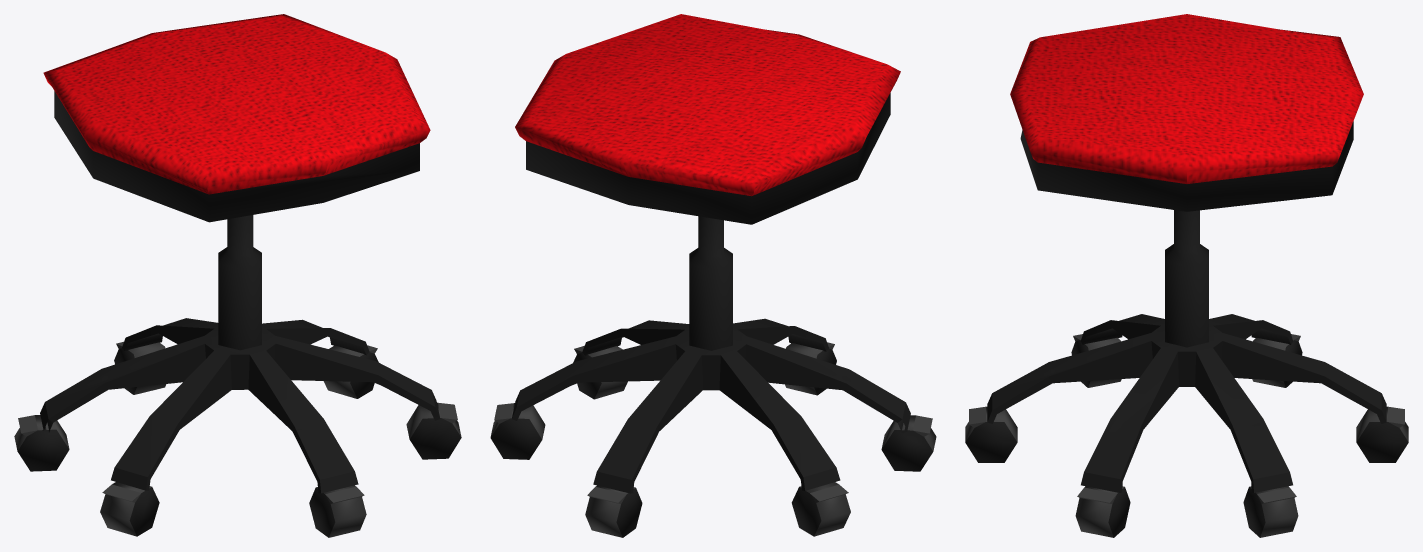
File: Computer_Stool_B.FBX
3 renders of one model, left to right at view 1: azimuth 30°, elevation 25°; view 2: azimuth 150°, elevation 25°; view 3: azimuth 270°, elevation 25°, orthographic.
Parts seen in each view (by area): view 1: Computer_Stool; view 2: Computer_Stool; view 3: Computer_Stool.
Boxes of the visible parts, <box> form: Computer_Stool: <box>14,14,461,537</box>; Computer_Stool: <box>490,14,936,537</box>; Computer_Stool: <box>965,14,1408,537</box>.
Size of the model in its own units: 76.63 by 75.5 by 81.44.
